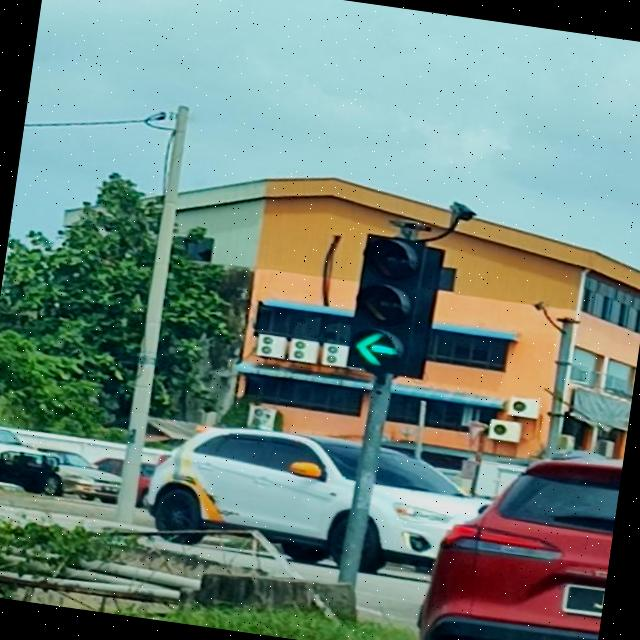green_light: (347, 231, 427, 376)
